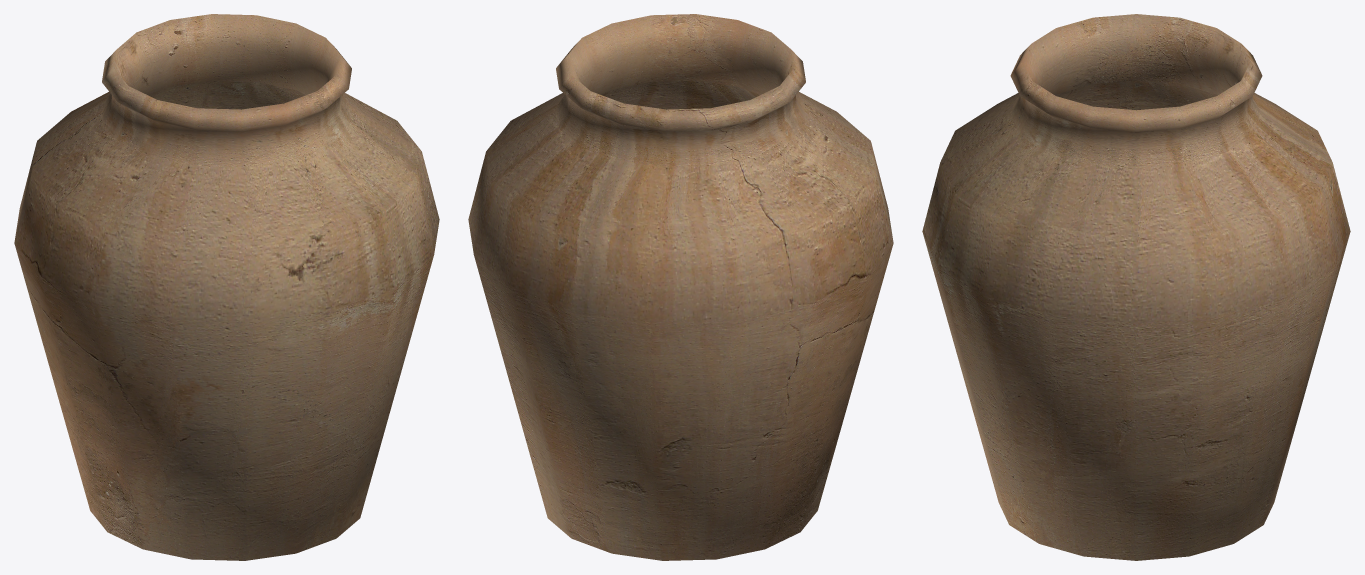
File: jar4.fbx
The picture shows the model from 3 angles, left to right: view 1: azimuth 30°, elevation 25°; view 2: azimuth 150°, elevation 25°; view 3: azimuth 270°, elevation 25°; orthographic projection.
Parts seen in each view (by area): view 1: pCylinder36; view 2: pCylinder36; view 3: pCylinder36.
Boxes of the visible parts, x1,y1,x2,y2 form: pCylinder36: [14, 14, 439, 560]; pCylinder36: [468, 14, 893, 560]; pCylinder36: [922, 14, 1350, 560].
Bounding box in the file's own units: 0.2911 × 0.3305 × 0.2911.
